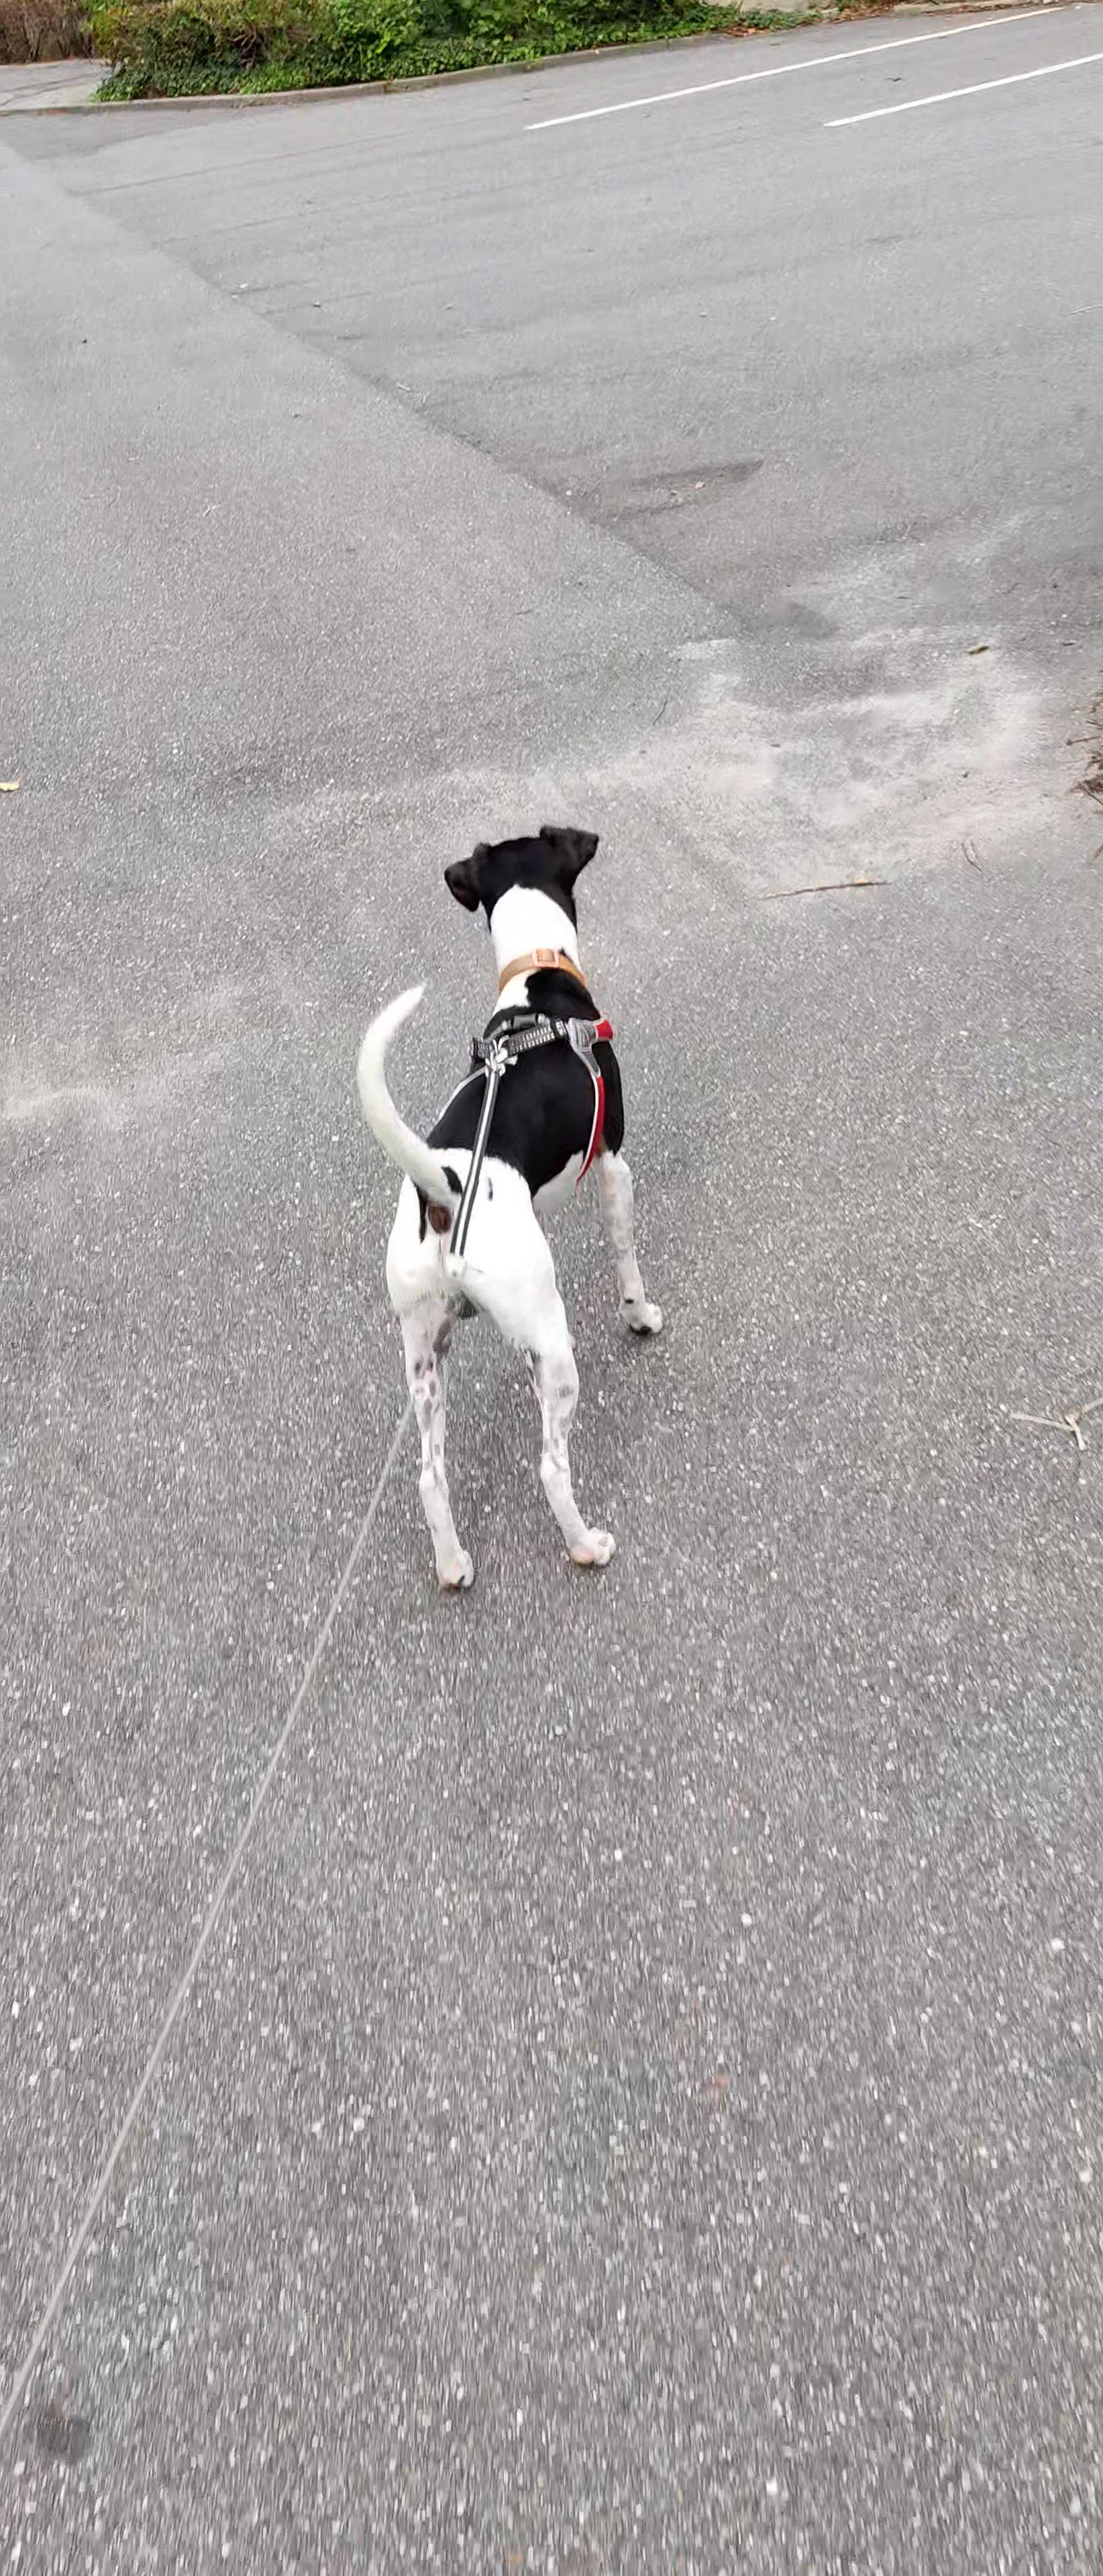Dog: (339, 808, 702, 1602)
